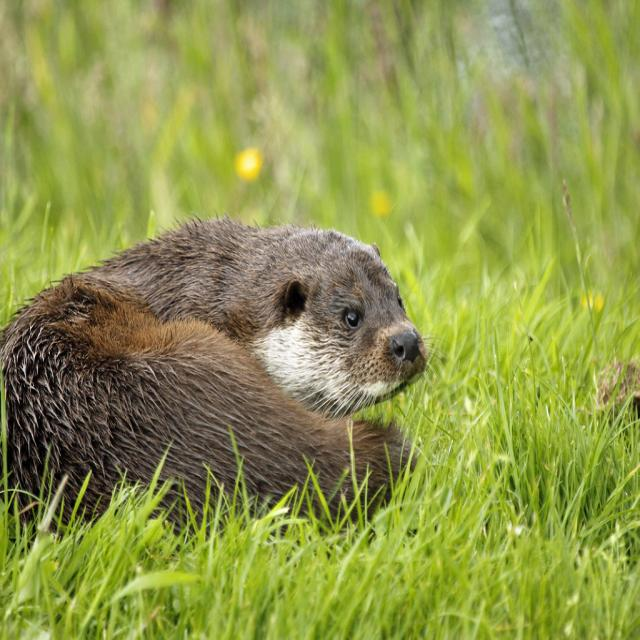otter: (1, 218, 427, 533)
